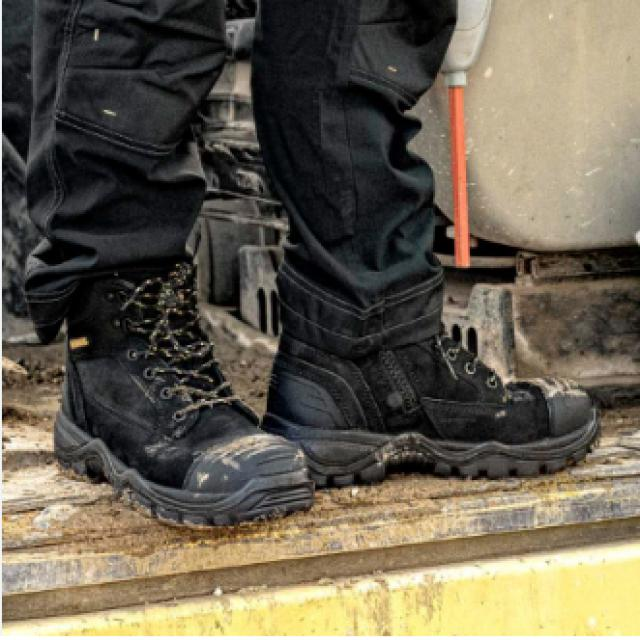boots: (42, 250, 608, 540)
